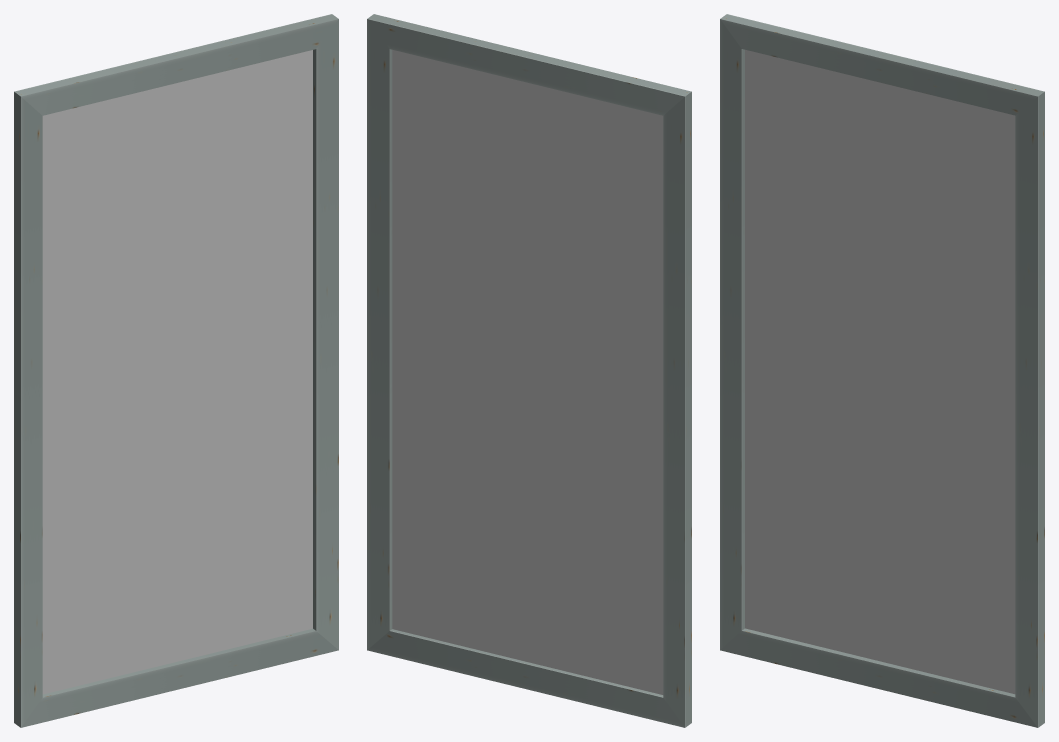
File: shop_f_cafe_door02.fbx
3 renders of one model, left to right at view 1: azimuth 30°, elevation 25°; view 2: azimuth 150°, elevation 25°; view 3: azimuth 330°, elevation 25°, orthographic.
Parts seen in each view (by area): view 1: shop_f_cafe_door02; view 2: shop_f_cafe_door02; view 3: shop_f_cafe_door02.
Part boxes in pixels (bbox=[...]): shop_f_cafe_door02: bbox=[14, 14, 338, 727]; shop_f_cafe_door02: bbox=[367, 14, 691, 727]; shop_f_cafe_door02: bbox=[720, 14, 1044, 727].
Bounding box in the file's own units: 1.2 × 2.28 × 0.0448.
